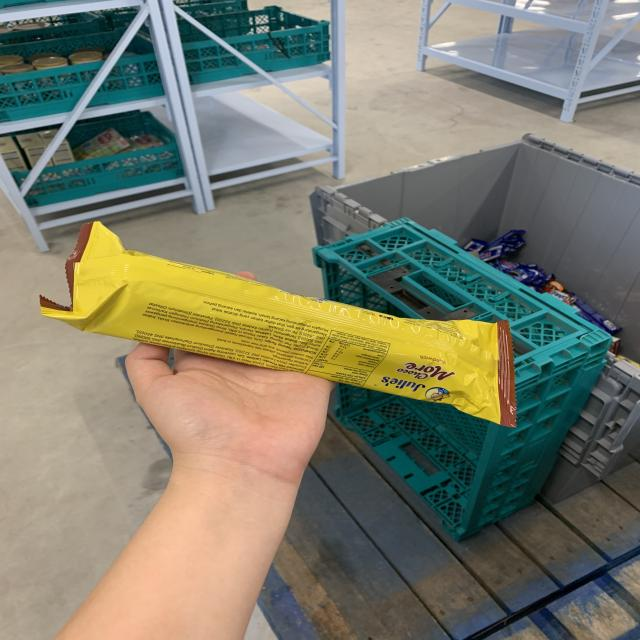object_name: (78, 238, 474, 402)
